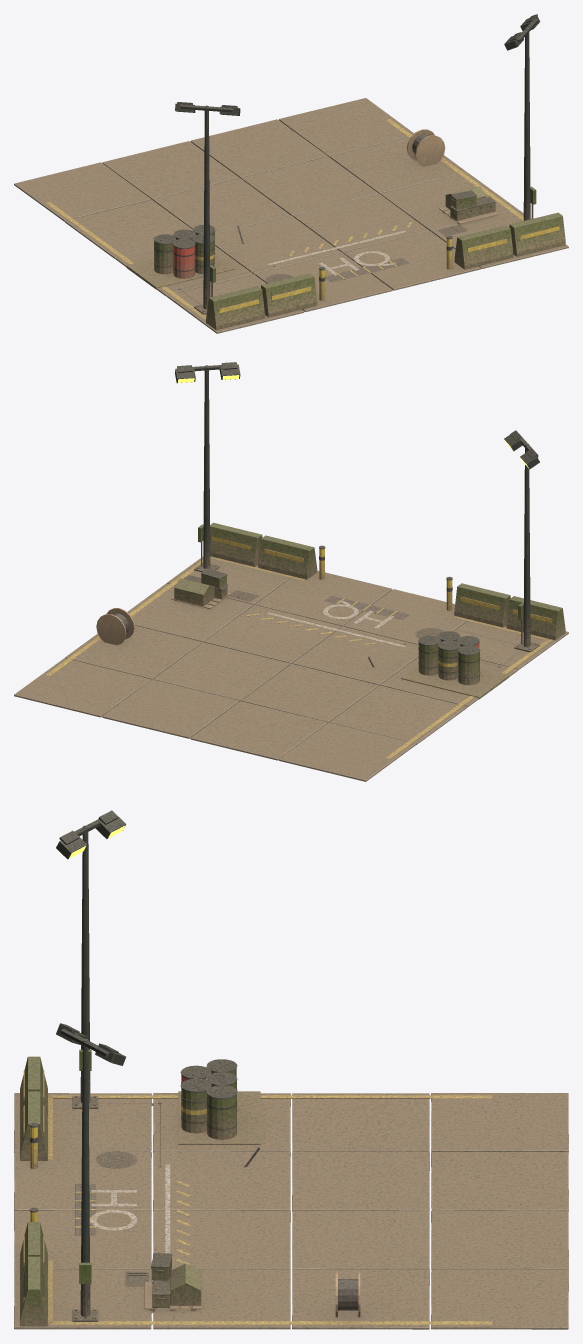
Rendered from hoofdkwartier_omgeving.glb.
The picture shows the model from 3 angles, top to bottom: view 1: azimuth 30°, elevation 25°; view 2: azimuth 150°, elevation 25°; view 3: azimuth 270°, elevation 25°; orthographic projection. The views are drawn at different scales.
Visible parts, largest first — view 1: Voorplein, Props_staal, Props_donker, Voorplein_geel, Props_geel, Props_hout, Props_rubber, Props_rood, HQ_stencil; view 2: Voorplein, Props_staal, Props_donker, Voorplein_geel, Props_geel, Props_hout, Props_zeil, Props_rubber; view 3: Voorplein, Props_staal, Props_donker, Voorplein_geel, Props_rubber, Props_zeil, Props_geel, Voorplein_metaal, HQ_stencil, Props_hout.
Part boxes in pixels (x1=…): Voorplein: x1=14, y1=98, x2=568, y2=333; Props_staal: x1=126, y1=186, x2=565, y2=330; Props_donker: x1=153, y1=14, x2=540, y2=314; Voorplein_geel: x1=46, y1=119, x2=523, y2=319; Props_geel: x1=195, y1=226, x2=559, y2=312; Props_hout: x1=407, y1=129, x2=498, y2=224; Props_rubber: x1=178, y1=134, x2=452, y2=304; Props_rood: x1=173, y1=245, x2=195, y2=278; HQ_stencil: x1=318, y1=251, x2=395, y2=275; Voorplein: x1=14, y1=556, x2=568, y2=781; Props_staal: x1=198, y1=522, x2=565, y2=699; Props_donker: x1=175, y1=362, x2=539, y2=678; Voorplein_geel: x1=46, y1=556, x2=551, y2=758; Props_geel: x1=212, y1=536, x2=552, y2=666; Props_hout: x1=96, y1=592, x2=230, y2=645; Props_zeil: x1=174, y1=578, x2=214, y2=606; Props_rubber: x1=113, y1=556, x2=522, y2=667; Voorplein: x1=14, y1=1093, x2=568, y2=1329; Props_staal: x1=20, y1=1049, x2=260, y2=1326; Props_donker: x1=29, y1=810, x2=237, y2=1321; Voorplein_geel: x1=48, y1=1095, x2=492, y2=1324; Props_rubber: x1=30, y1=1102, x2=358, y2=1310; Props_zeil: x1=170, y1=1263, x2=201, y2=1305; Props_geel: x1=23, y1=1070, x2=206, y2=1302; Voorplein_metaal: x1=96, y1=1151, x2=148, y2=1286; HQ_stencil: x1=89, y1=1190, x2=137, y2=1230; Props_hout: x1=144, y1=1271, x2=360, y2=1317.
Size of the model in its own units: 11.18 by 6.05 by 10.78.
2 materials, 1 textured.
